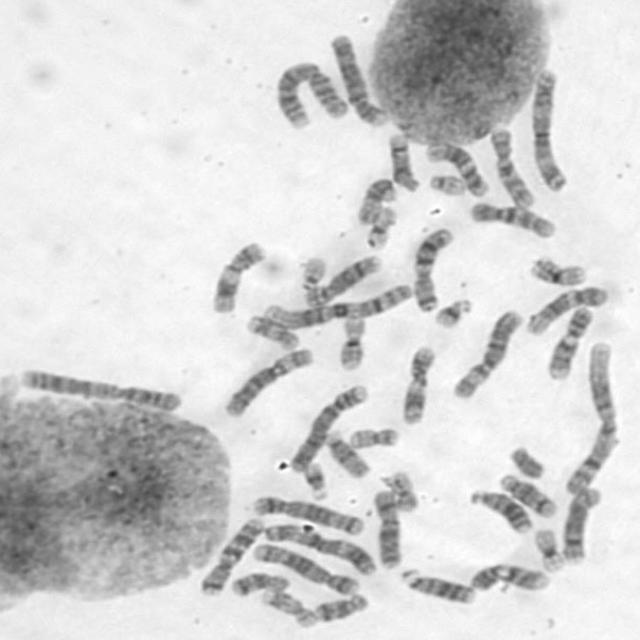A1: (559, 336, 624, 498), (258, 278, 416, 330)
A2: (15, 362, 186, 412), (270, 56, 352, 130)
A3: (258, 518, 380, 577), (527, 64, 572, 193)
B4: (283, 378, 371, 474), (324, 27, 392, 128)
B5: (247, 536, 362, 596), (247, 489, 368, 536)
C10: (484, 122, 540, 210), (463, 196, 560, 241)
C11: (207, 236, 269, 314), (395, 340, 438, 426)
C12: (522, 278, 614, 337), (420, 137, 490, 198)
C6: (446, 304, 527, 402), (218, 341, 316, 419)
C7: (194, 511, 268, 596), (409, 222, 458, 314)
C8: (298, 248, 387, 309), (557, 482, 606, 565)
C9: (542, 301, 596, 382), (464, 558, 553, 594)
D13: (395, 563, 478, 606), (464, 484, 535, 534)
D14: (494, 468, 560, 519), (382, 129, 422, 193)
D15: (320, 426, 372, 479), (353, 172, 400, 227)
E16: (525, 252, 589, 288), (332, 310, 368, 371)
E17: (255, 584, 319, 629), (242, 309, 303, 351)
E18: (225, 566, 292, 598), (309, 589, 370, 624)
F19: (360, 202, 400, 252), (530, 524, 568, 574)
F20: (380, 465, 422, 513), (344, 422, 402, 449)
G21: (428, 292, 475, 330), (298, 456, 332, 500)
G22: (294, 250, 330, 292), (425, 168, 468, 197)
X: (368, 484, 406, 570)
Y: (503, 440, 549, 480)
